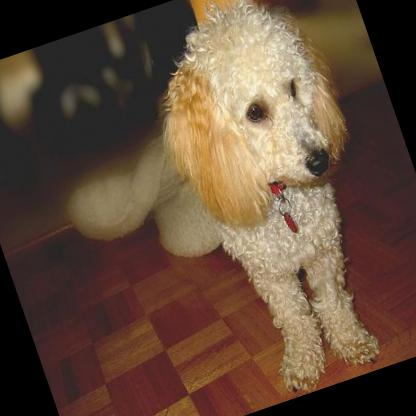miniature_poodle: (117, 0, 416, 411)
